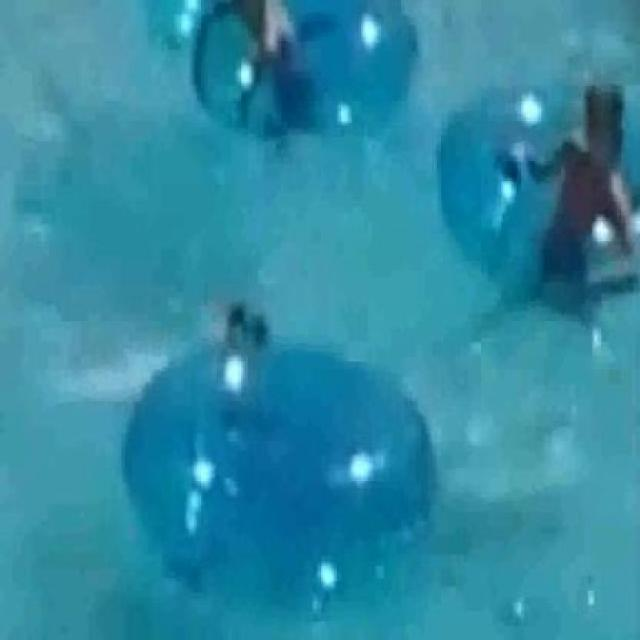drowning: (217, 290, 271, 361)
